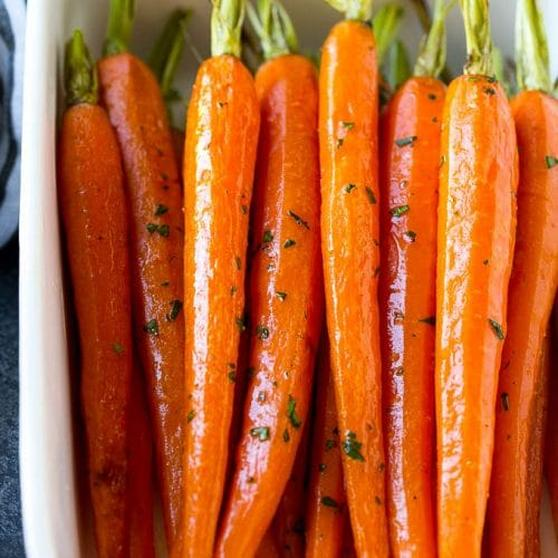carrot: (223, 45, 332, 558), (311, 15, 403, 558), (53, 97, 151, 558), (181, 50, 261, 558), (439, 69, 522, 558), (378, 69, 450, 558), (487, 81, 558, 558)
